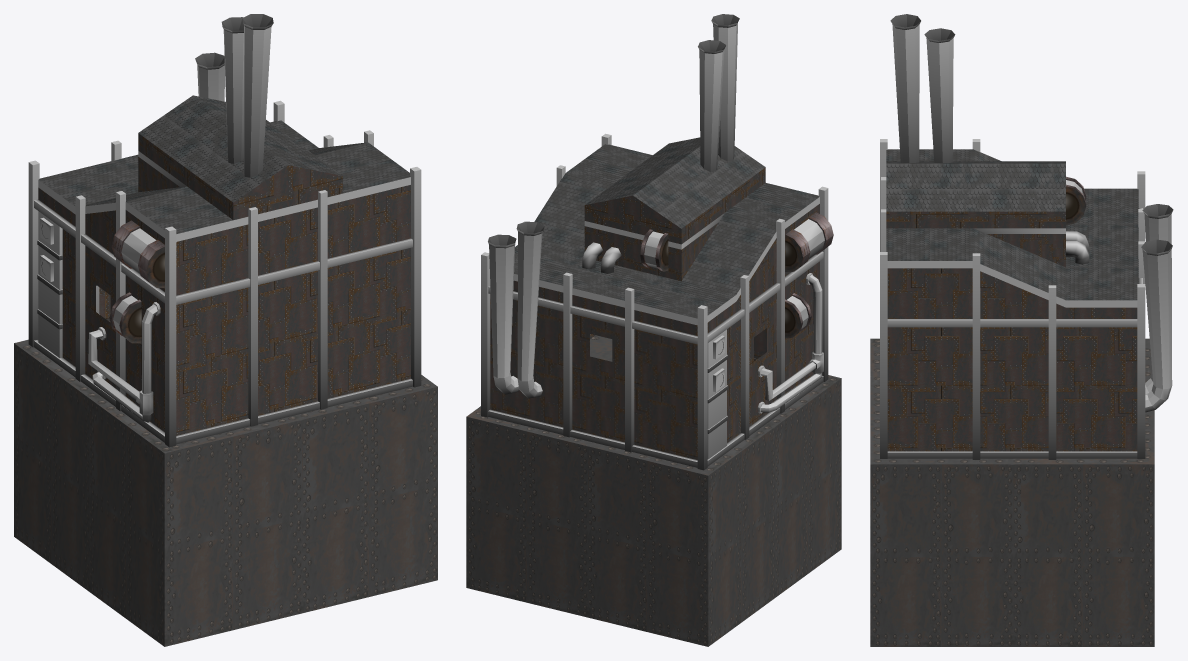
The model's file is factory_gear_room_building.fbx.
The picture shows the model from 3 angles, left to right: view 1: azimuth 30°, elevation 25°; view 2: azimuth 150°, elevation 25°; view 3: azimuth 270°, elevation 25°; orthographic projection. The views are drawn at different scales.
Visible parts, largest first — view 1: Building, Smokestacks, GearCasings, Support, PipeTJoins; view 2: Building, Smokestacks, GearCasings, PipeTJoins, Support; view 3: Building, Smokestacks, GearCasings, PipeTJoins.
Boxes of the visible parts, x1,y1,x2,y2 form: Building: (14,95,437,646); Smokestacks: (195,14,273,177); GearCasings: (109,220,164,343); Support: (37,211,99,358); PipeTJoins: (88,304,157,422); Building: (466,133,841,646); Smokestacks: (488,14,739,398); GearCasings: (640,212,833,338); PipeTJoins: (582,242,823,412); Support: (707,329,727,459); Building: (870,139,1154,646); Smokestacks: (890,14,1173,412); GearCasings: (1066,176,1086,225); PipeTJoins: (1066,231,1089,264).
Size of the model in its own units: 5073 by 10207 by 5077.
